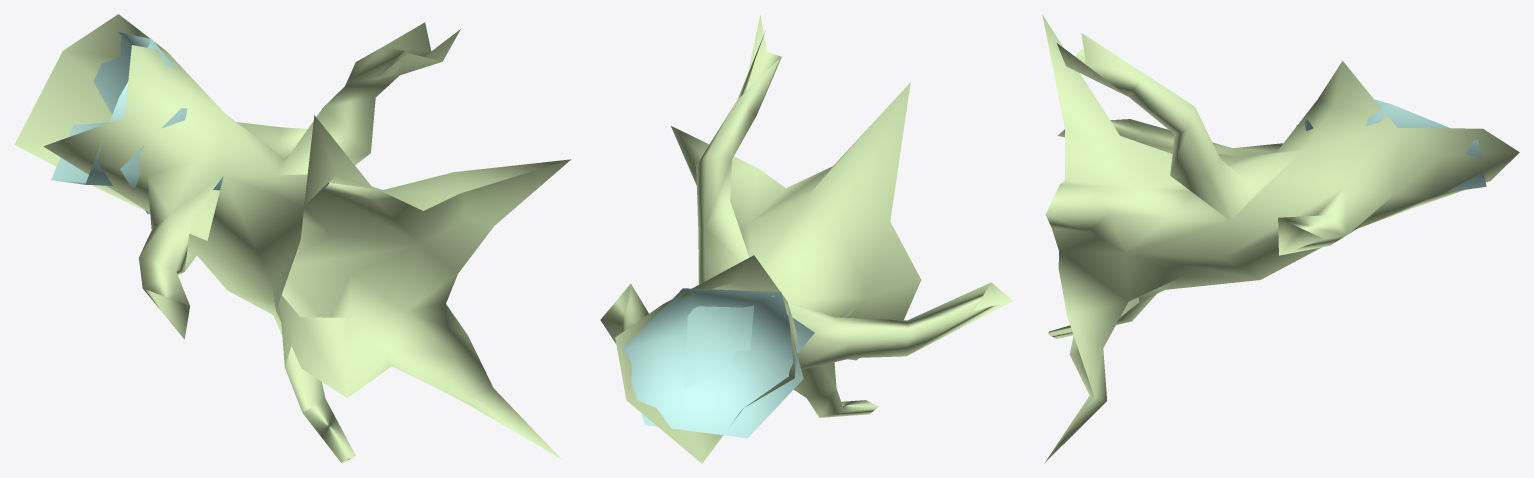
3 renders of one model, left to right at view 1: azimuth 30°, elevation 25°; view 2: azimuth 150°, elevation 25°; view 3: azimuth 270°, elevation 25°, orthographic. The views are drawn at different scales.
Visible parts, largest first — view 1: Object69; view 2: Object69; view 3: Object69.
Part boxes in pixels (bbox=[...]): Object69: bbox=[14, 14, 570, 463]; Object69: bbox=[600, 14, 1013, 463]; Object69: bbox=[1042, 14, 1519, 462].
Size of the model in its own units: 23737 by 26854 by 30327.
